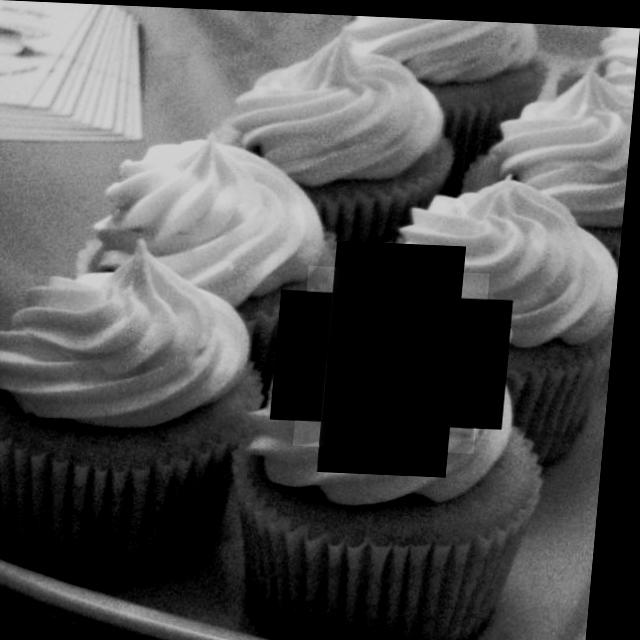qr_code: (301, 263, 494, 449)
